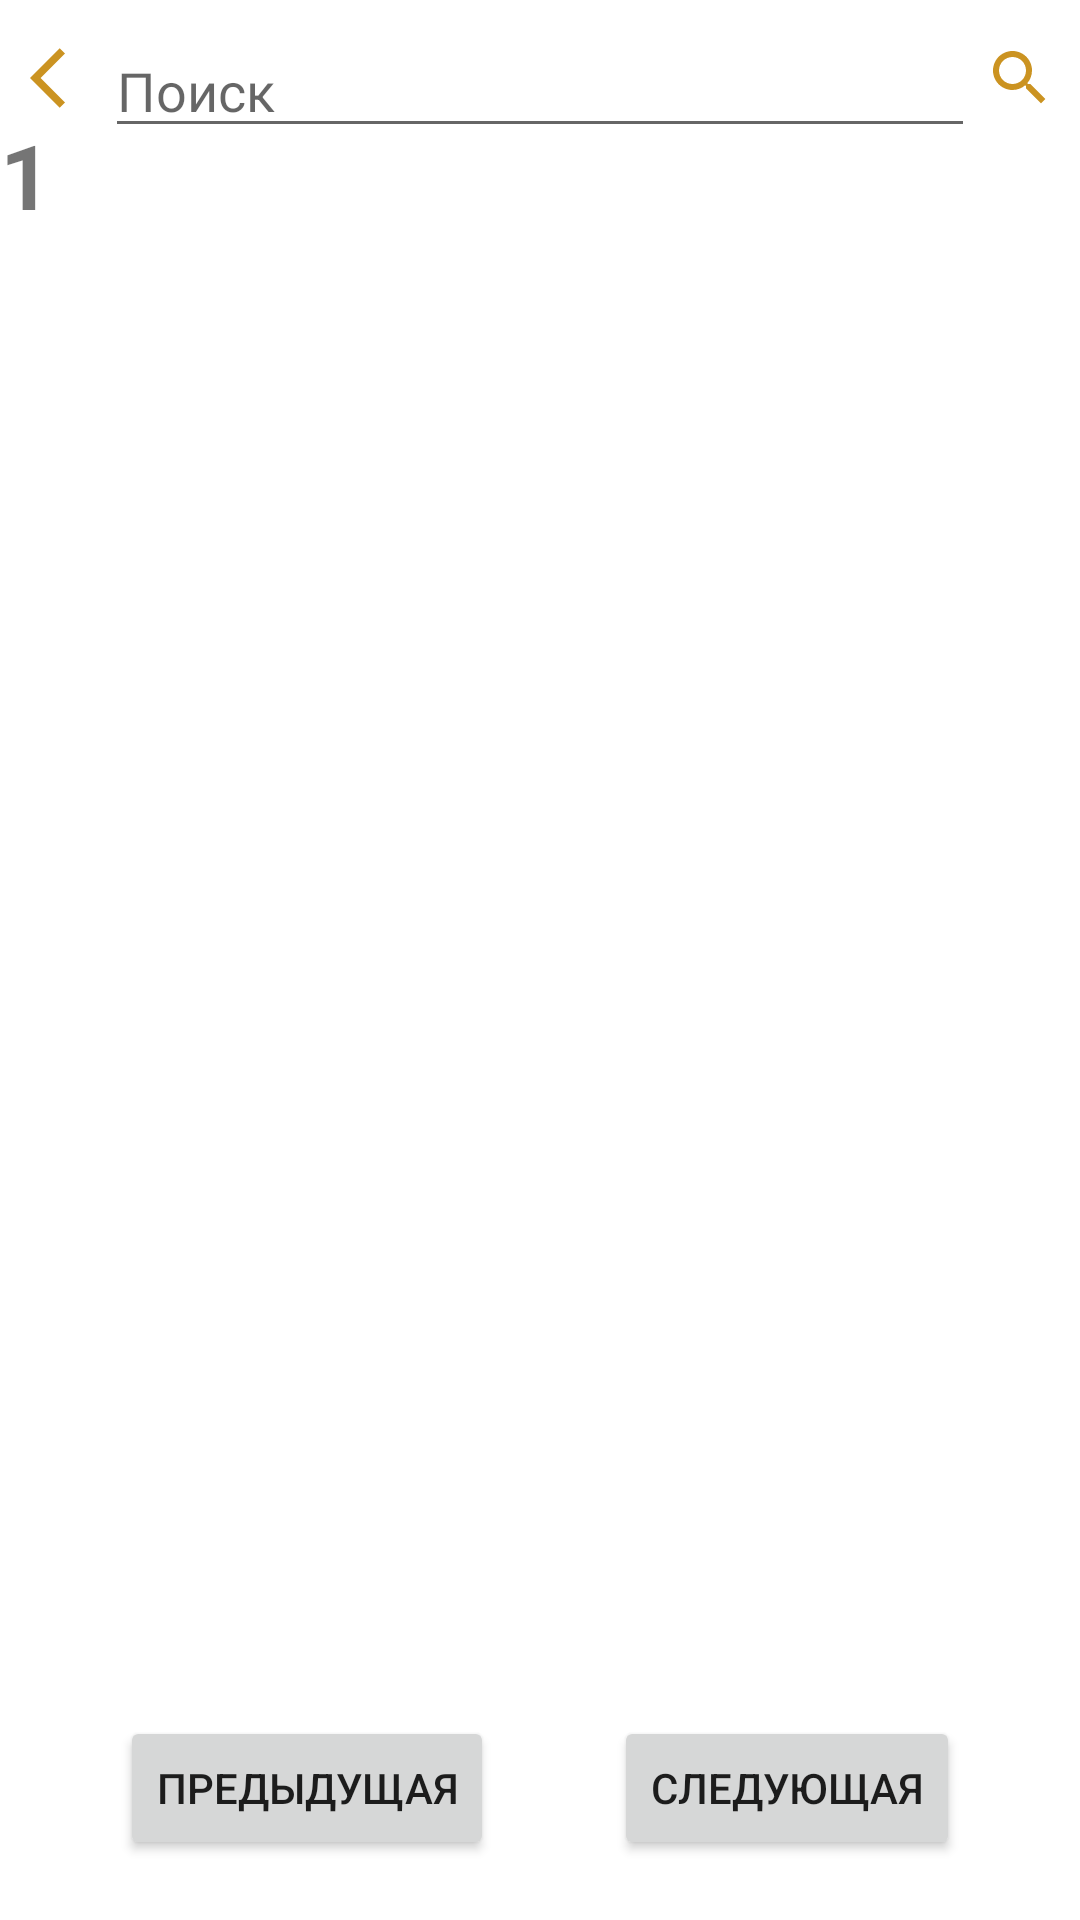

Screen size 1080 × 1920. Icon name, then its center in pixels as (x=x, y=y):
arrow back: (x=47, y=78)
search: (x=1019, y=77)
